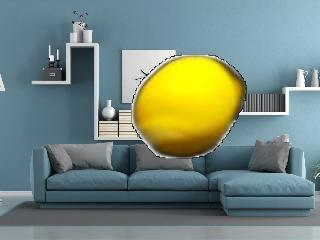lemon: (133, 57, 244, 156)
